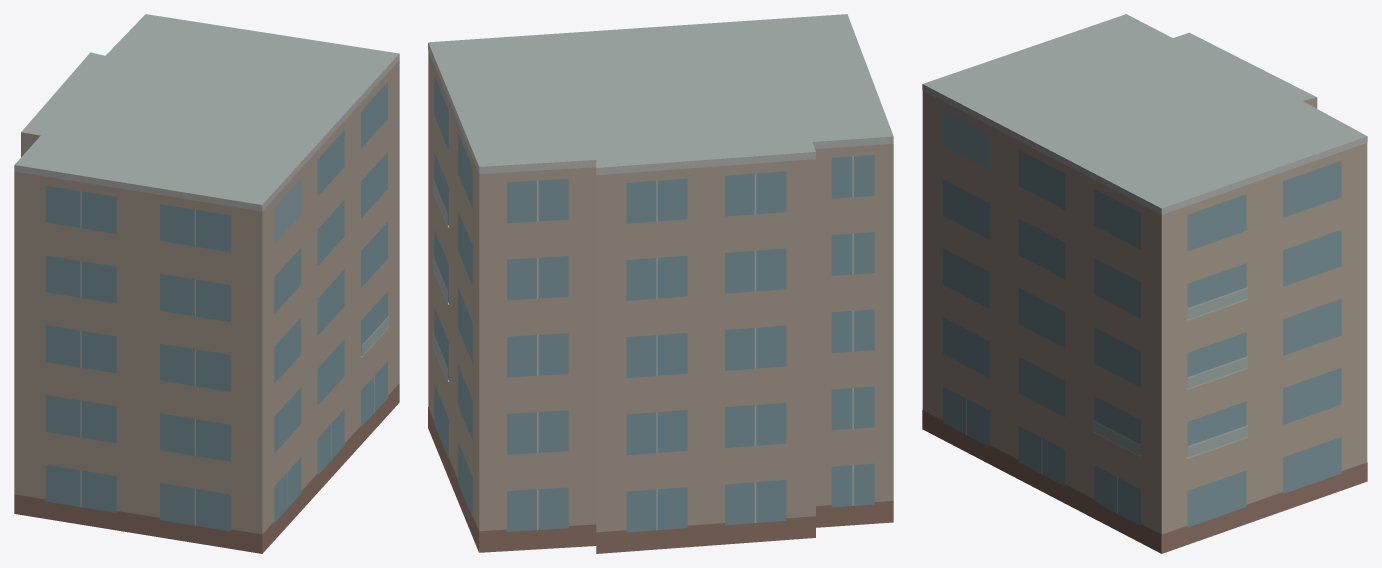
Rendered from survey-upis-32724234.glb.
3 views of the same model, side by side, from view 1: azimuth 30°, elevation 25°; view 2: azimuth 150°, elevation 25°; view 3: azimuth 270°, elevation 25° (orthographic). The views are drawn at different scales.
Parts seen in each view (by area): view 1: survey-upis-32724234.tmp; view 2: survey-upis-32724234.tmp; view 3: survey-upis-32724234.tmp.
Boxes of the visible parts, x1,y1,x2,y2 form: survey-upis-32724234.tmp: [14, 14, 399, 553]; survey-upis-32724234.tmp: [428, 14, 893, 553]; survey-upis-32724234.tmp: [922, 14, 1367, 553].
Size of the model in its own units: 15.85 by 13.1 by 15.31.
